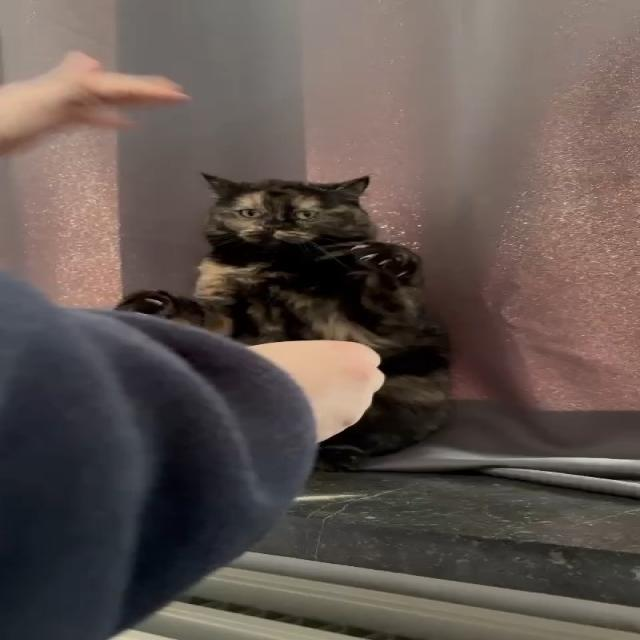authorized: (113, 171, 455, 471)
